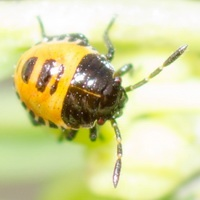insect: (14, 16, 187, 187)
